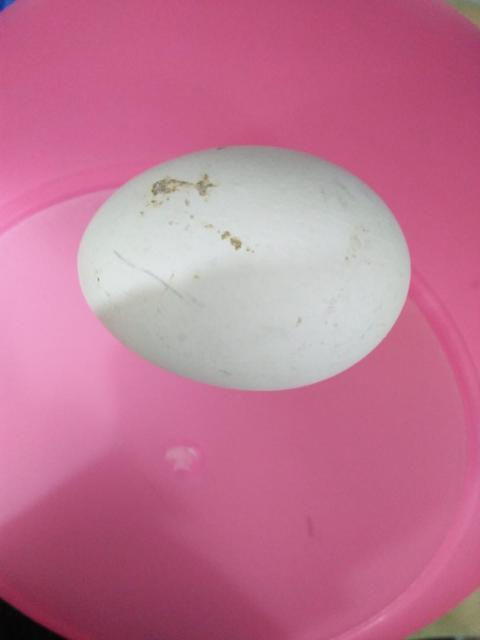Sano: (77, 142, 415, 392)
